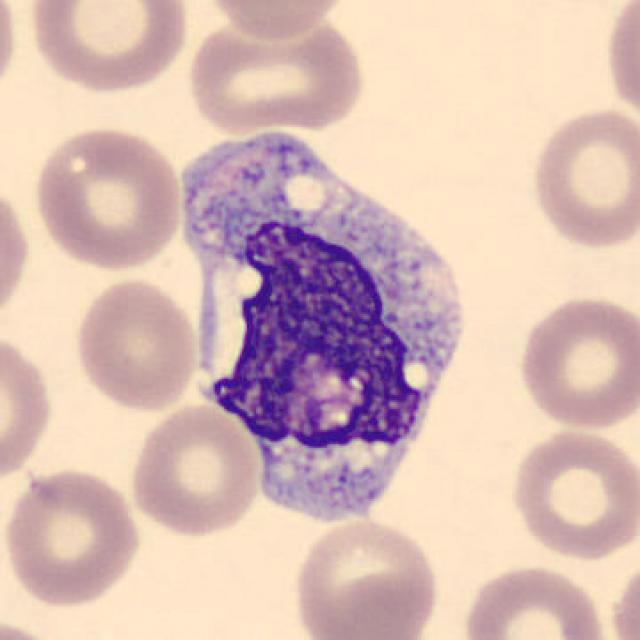Monocyte: (182, 118, 484, 545)
RBC: (183, 7, 370, 136), (28, 122, 185, 273), (0, 464, 144, 608), (288, 515, 444, 640), (125, 400, 263, 540), (69, 274, 203, 414), (505, 425, 638, 562), (514, 291, 638, 434), (524, 102, 638, 254), (23, 0, 194, 95), (458, 560, 613, 640), (0, 328, 57, 488), (193, 0, 355, 42), (0, 176, 32, 332), (602, 0, 640, 130), (608, 553, 640, 640), (0, 0, 21, 107), (0, 615, 69, 639)
